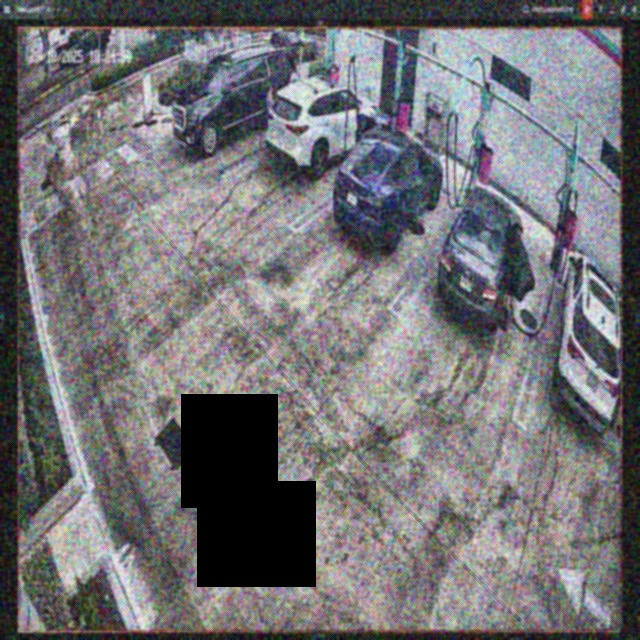Car: (170, 49, 297, 153), (439, 187, 532, 329), (333, 128, 443, 244), (267, 75, 376, 175)
